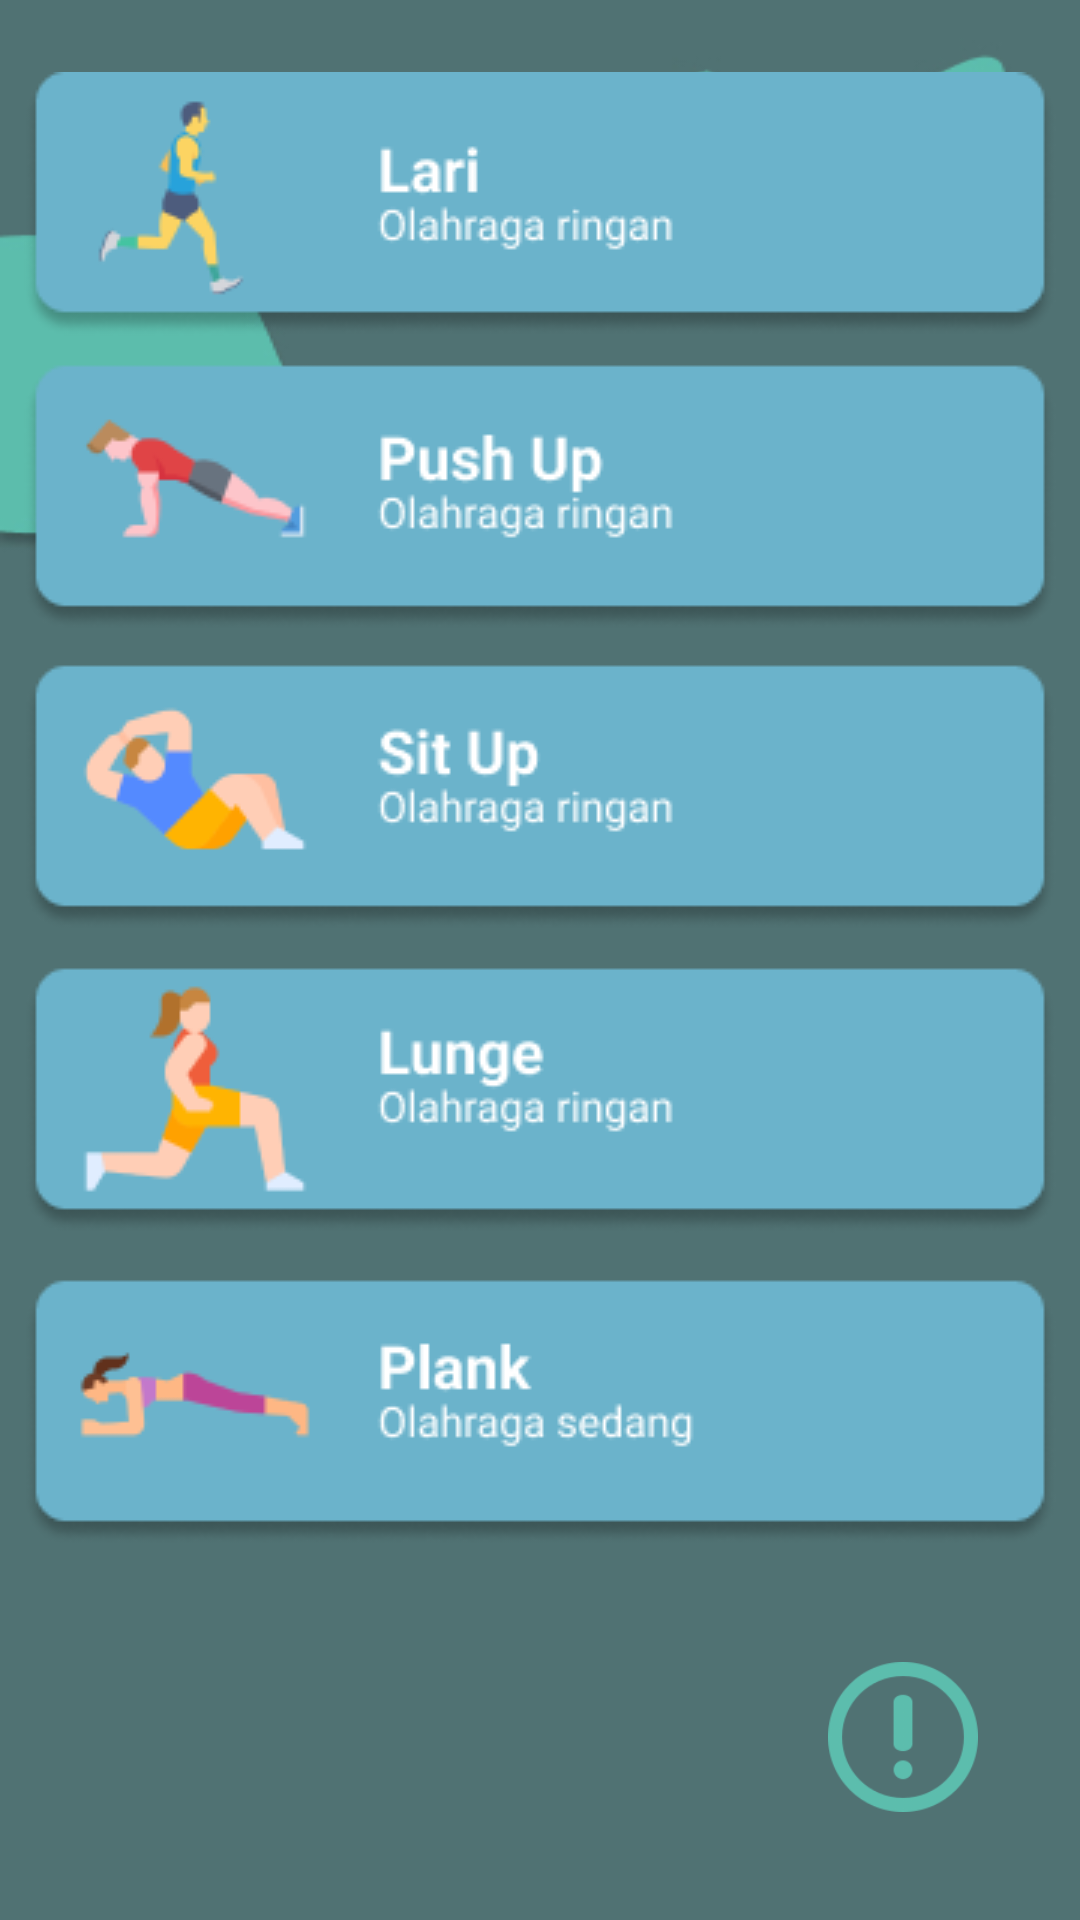

Named icons in this screenshot (1080w x 1920h) and their bounding boxes, (x1, y1, x2, y2):
exclamation: (828, 1662, 978, 1812)
